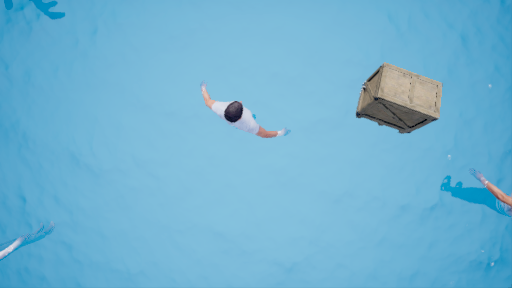person: (200, 81, 281, 142)
